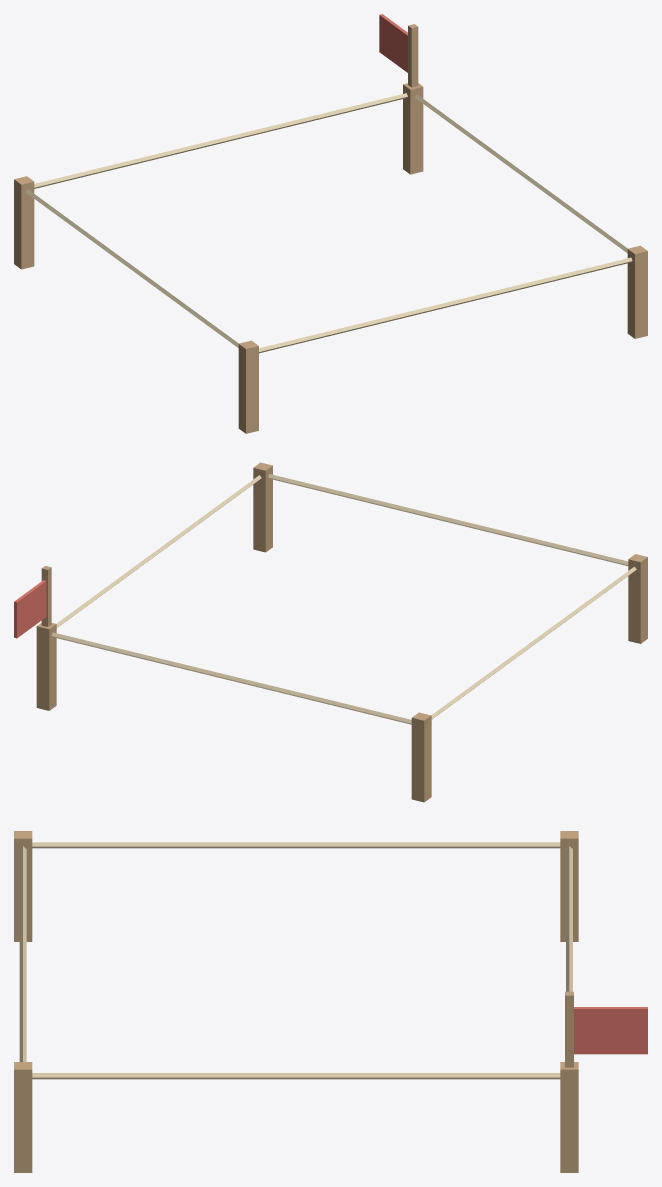
The model's file is SlotMarker.fbx.
3 views of the same model, one above another, from view 1: azimuth 30°, elevation 25°; view 2: azimuth 150°, elevation 25°; view 3: azimuth 270°, elevation 25° (orthographic). The views are drawn at different scales.
Visible parts, largest first — view 1: SlotMarker_Mesh; view 2: SlotMarker_Mesh; view 3: SlotMarker_Mesh.
Part boxes in pixels (x1,y1,x2,y2): SlotMarker_Mesh: (14, 14, 647, 433); SlotMarker_Mesh: (14, 462, 647, 802); SlotMarker_Mesh: (14, 831, 647, 1172).
Bounding box in the file's own units: 2.48 × 0.85 × 2.79.
